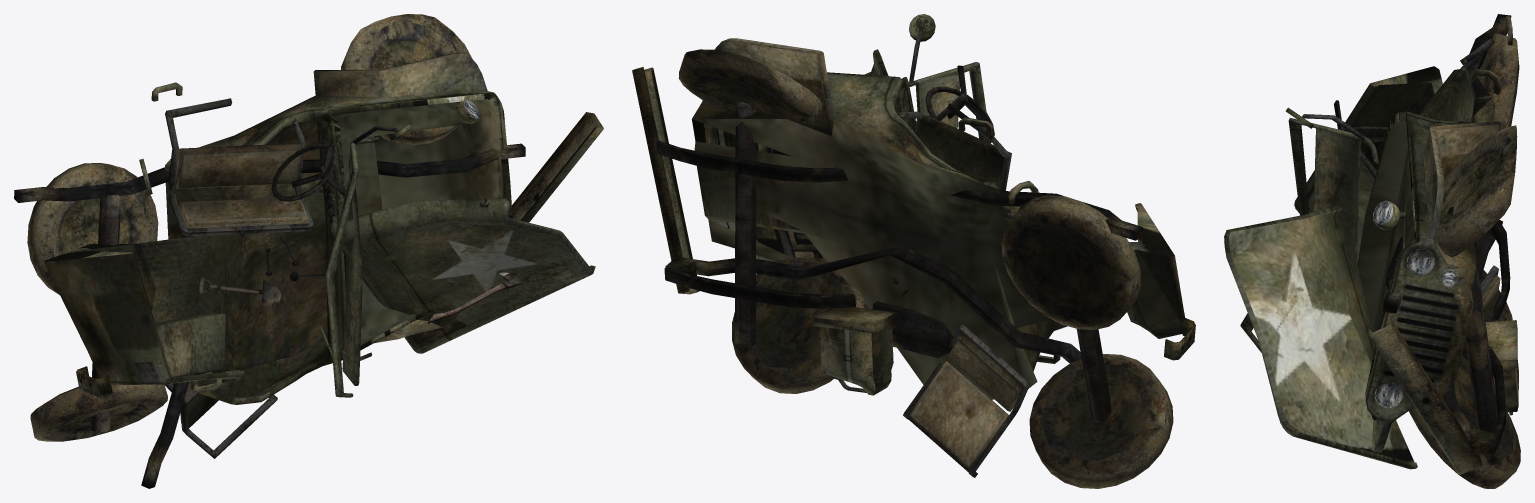
Rendered from vehicle_american_jeep_cot_damage.glb.
3 views of the same model, side by side, from view 1: azimuth 30°, elevation 25°; view 2: azimuth 150°, elevation 25°; view 3: azimuth 270°, elevation 25° (orthographic). The views are drawn at different scales.
Bounding box in the file's own units: 148 × 99.44 × 62.58.
1 material, 1 textured.
